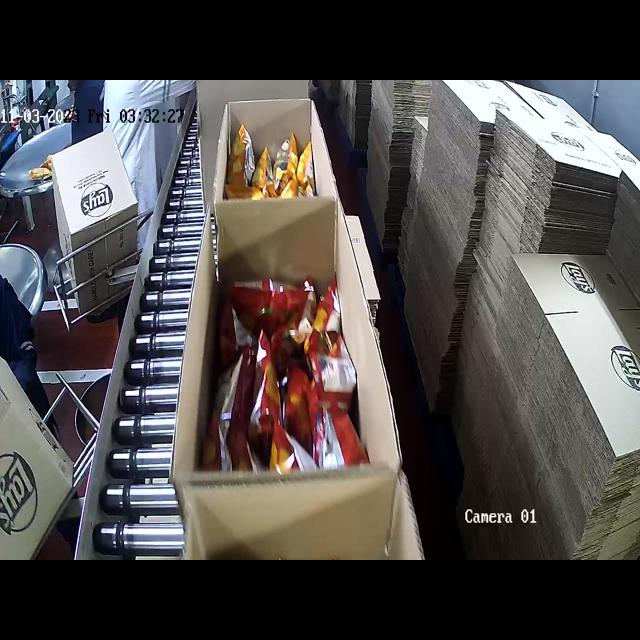cheese: (232, 119, 313, 198)
masala: (207, 267, 373, 474)
